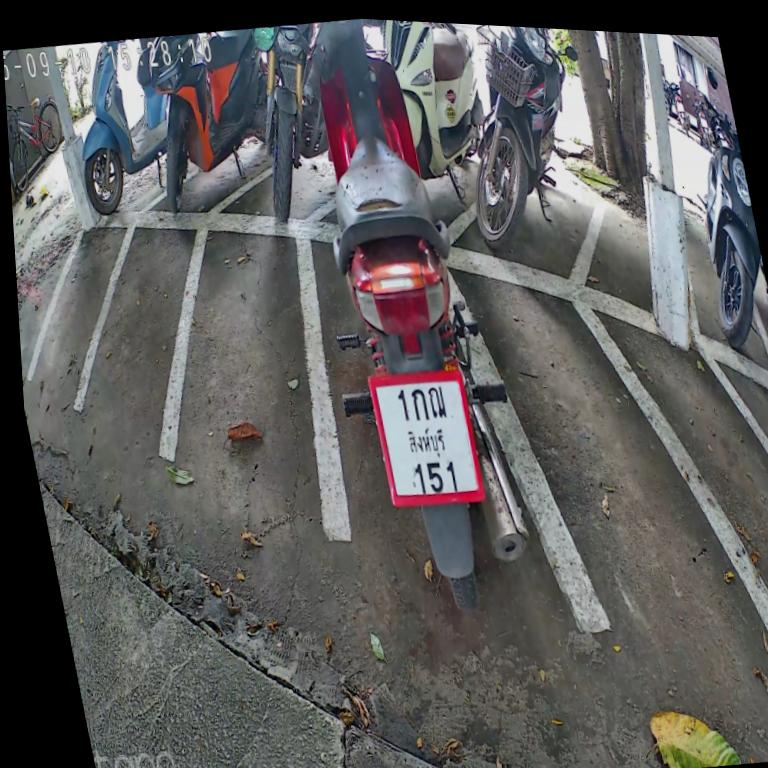license plate: (356, 350, 498, 523)
